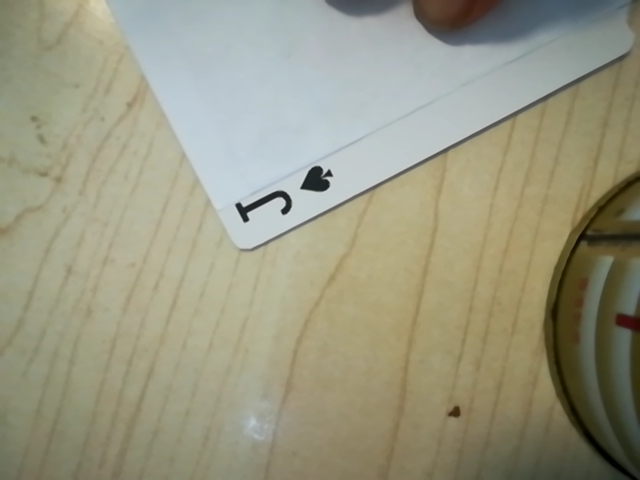ht j: (226, 155, 347, 238)
